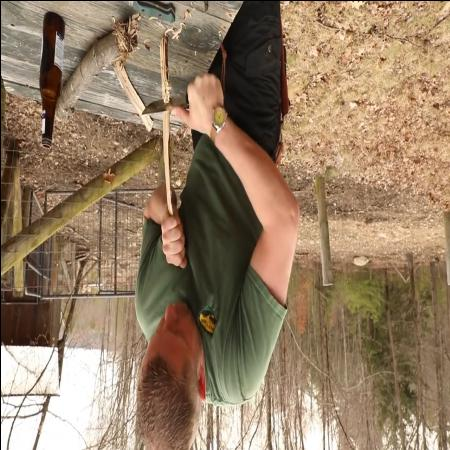long weapon: (135, 70, 226, 136)
